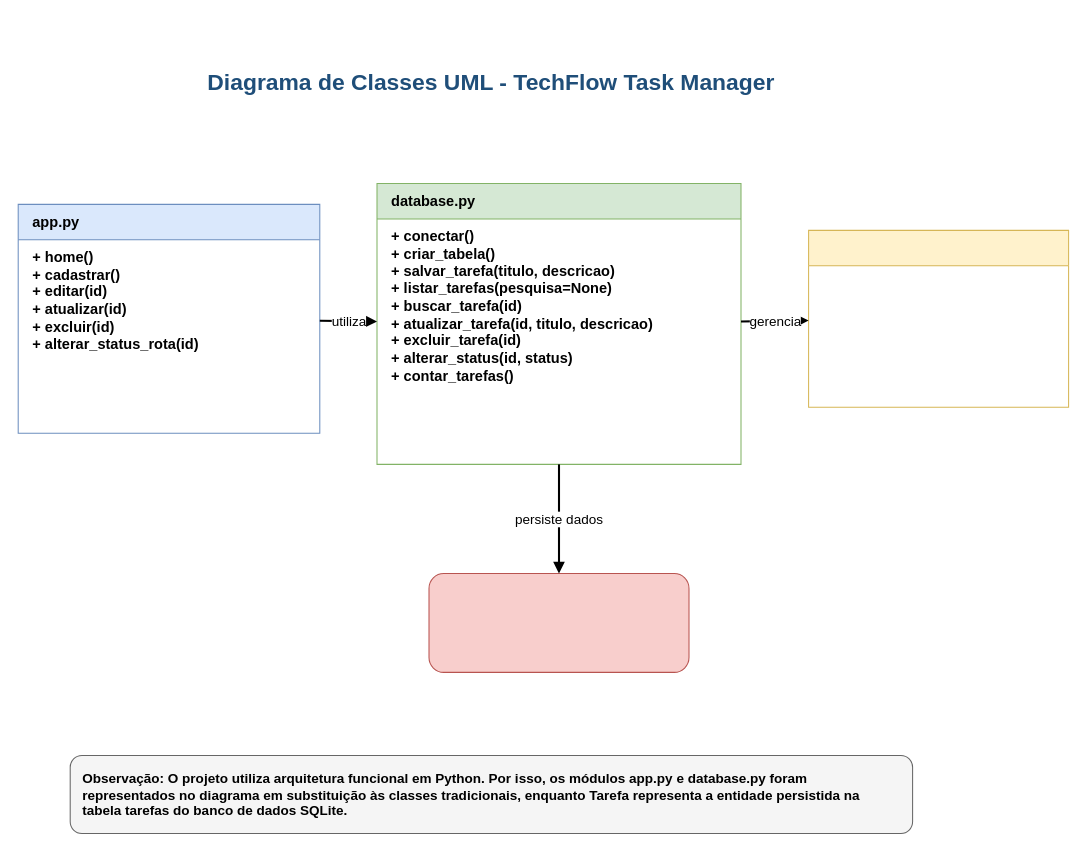
Some shapes in this 1087 by 852 pixel diagram are drawn without their labels. The shapes that lost their labels are listed below. From the top down, each one's centre as x and y in pixels, then its label:
At pixel 938 318: "Tarefa - id: INTEGER - titulo: TEXT - descricao: TEXT - status: TEXT".
At pixel 558 622: "SQLite banco.db Tabela: tarefas".
